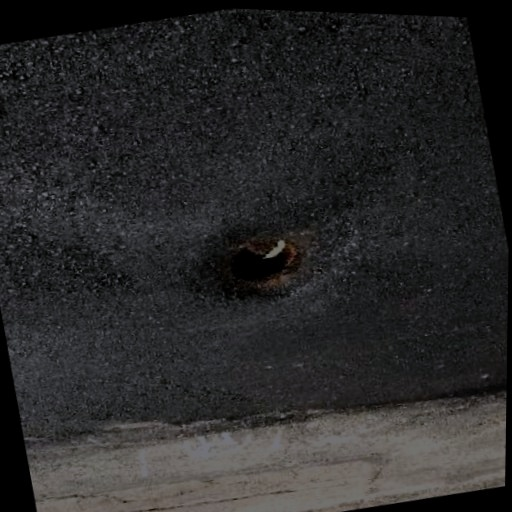pothole: (220, 229, 308, 292)
